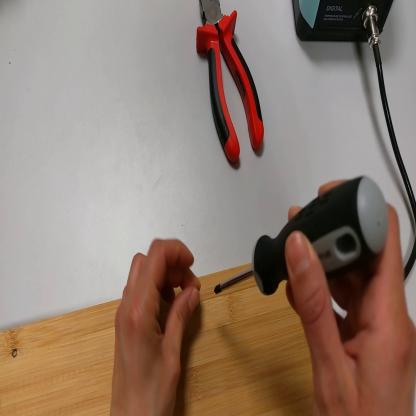hand: (282, 176, 416, 415), (111, 235, 202, 414)
pliers: (195, 1, 265, 165)
screwdriver-: (215, 177, 389, 301)
welder station: (293, 1, 395, 43)
working area: (2, 264, 321, 416)
